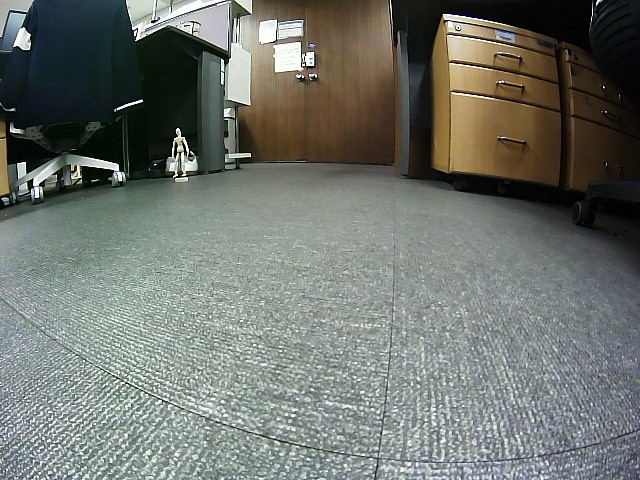person: (172, 127, 189, 178)
